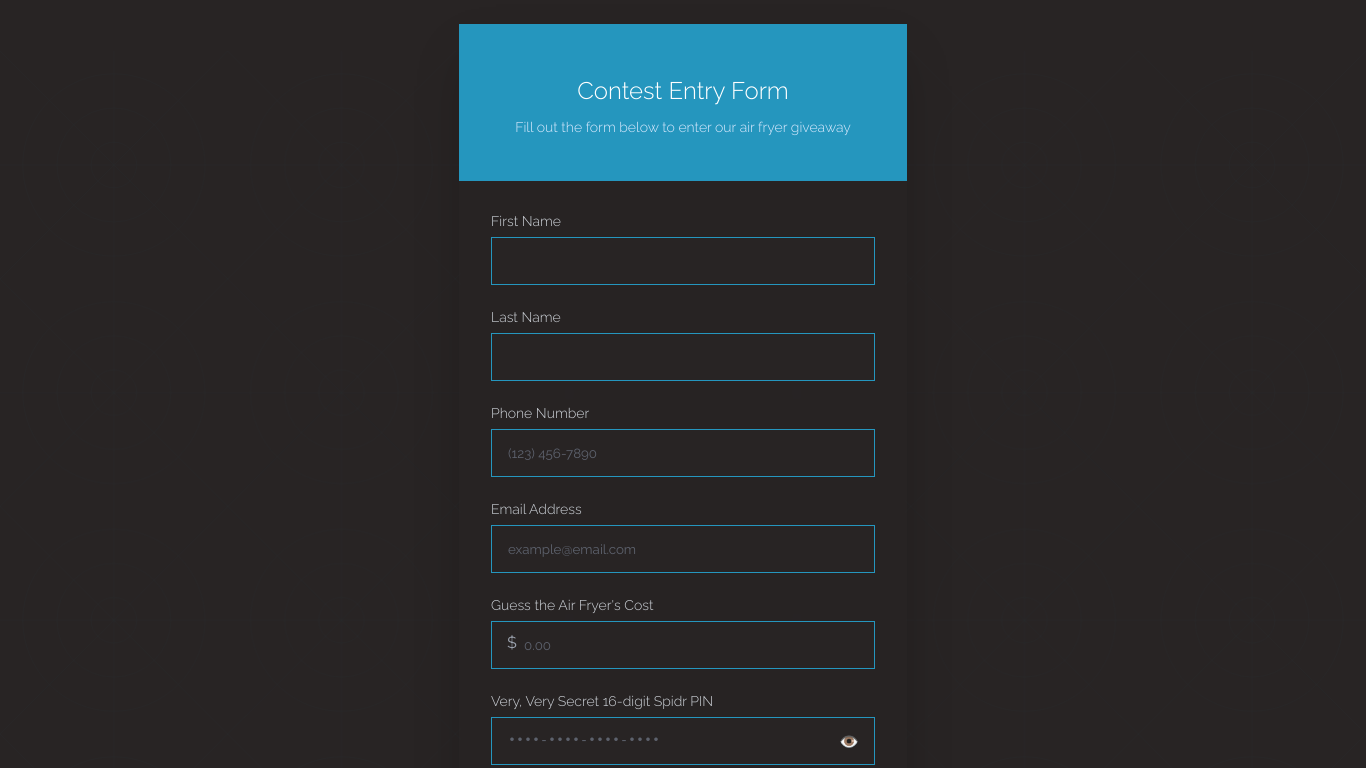
Scenario: SpidrForm Component › Spidr PIN Validation › formats PIN with dashes
Type "1234567890123456" into the password field labelled "Very, Very Secret 16-digit Spidr PIN" at (683, 741), box [491,717,875,765]
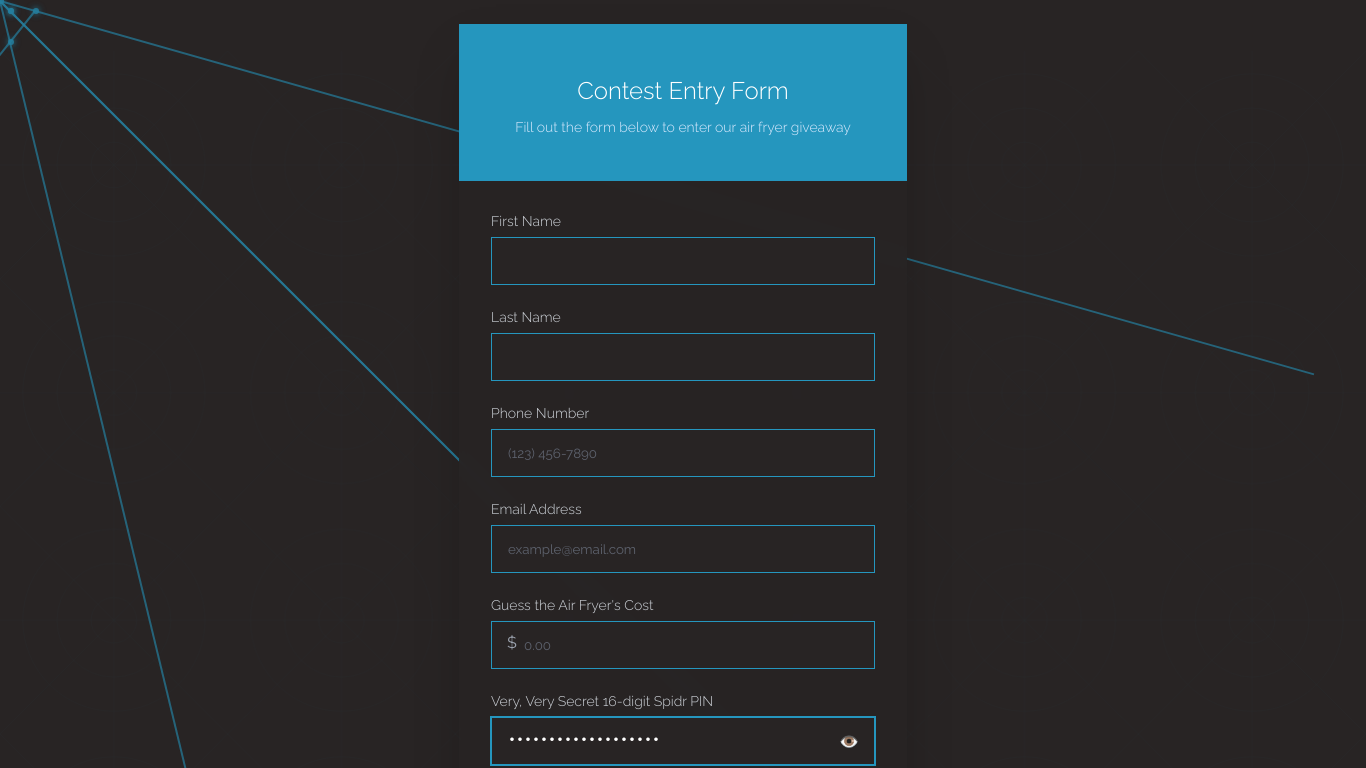
Now the password field labelled "Very, Very Secret 16-digit Spidr PIN" holds "1234-5678-9012-3456", box [491,717,875,765]
